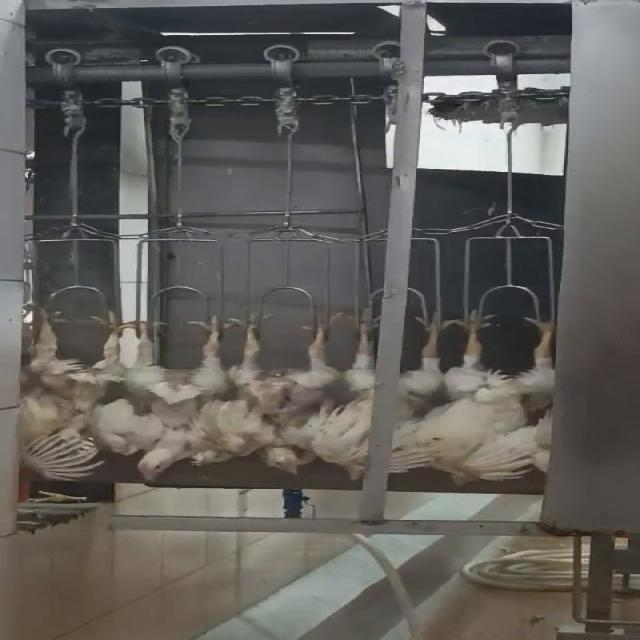chicken: (107, 310, 256, 485), (420, 316, 568, 483), (0, 313, 141, 486), (231, 303, 349, 479), (322, 313, 442, 481)
